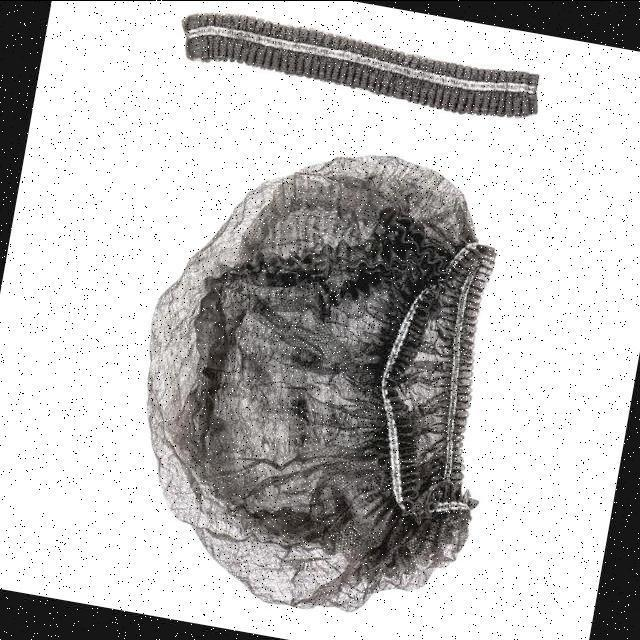gloves: (140, 151, 504, 612)
